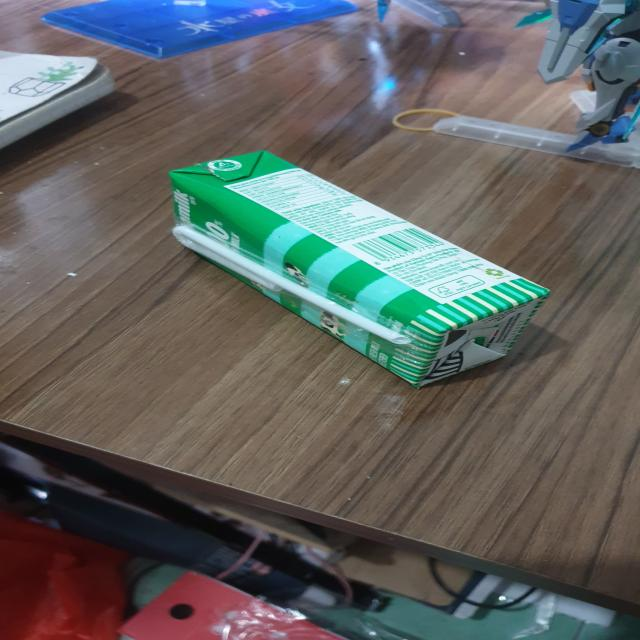Vina: (159, 154, 551, 389)
